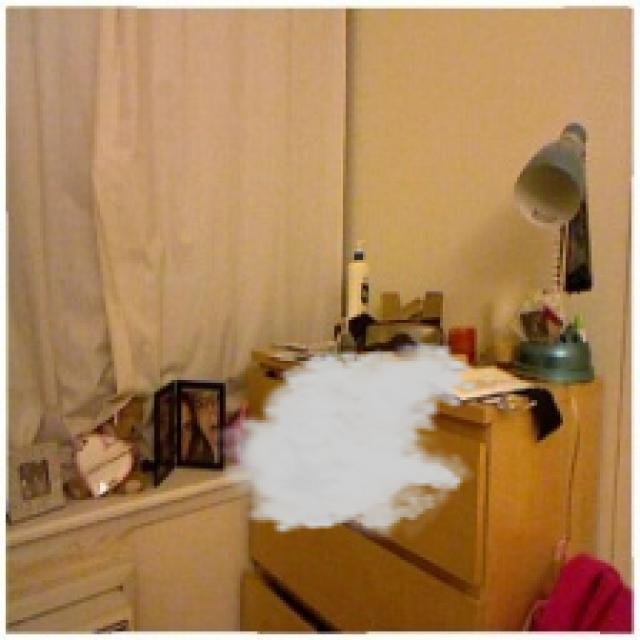Smoke: (208, 340, 481, 546)
